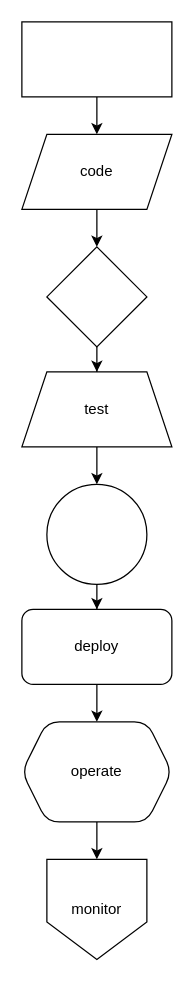
Image size: 194x981. Some labels were removed from this diagram. The shapes that lost their labels are listed below. From the top down, each one's centre as x and y in pixels, then its label:
the point at 96,59: plan
the point at 96,296: built
the point at 96,533: release
